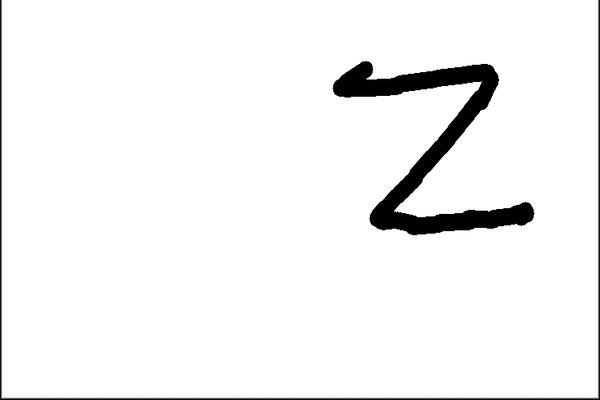Z: (316, 51, 545, 240)
